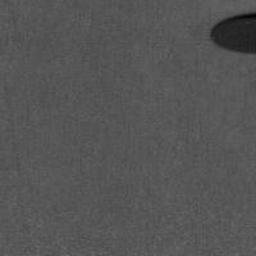Punching: (210, 13, 256, 55)
